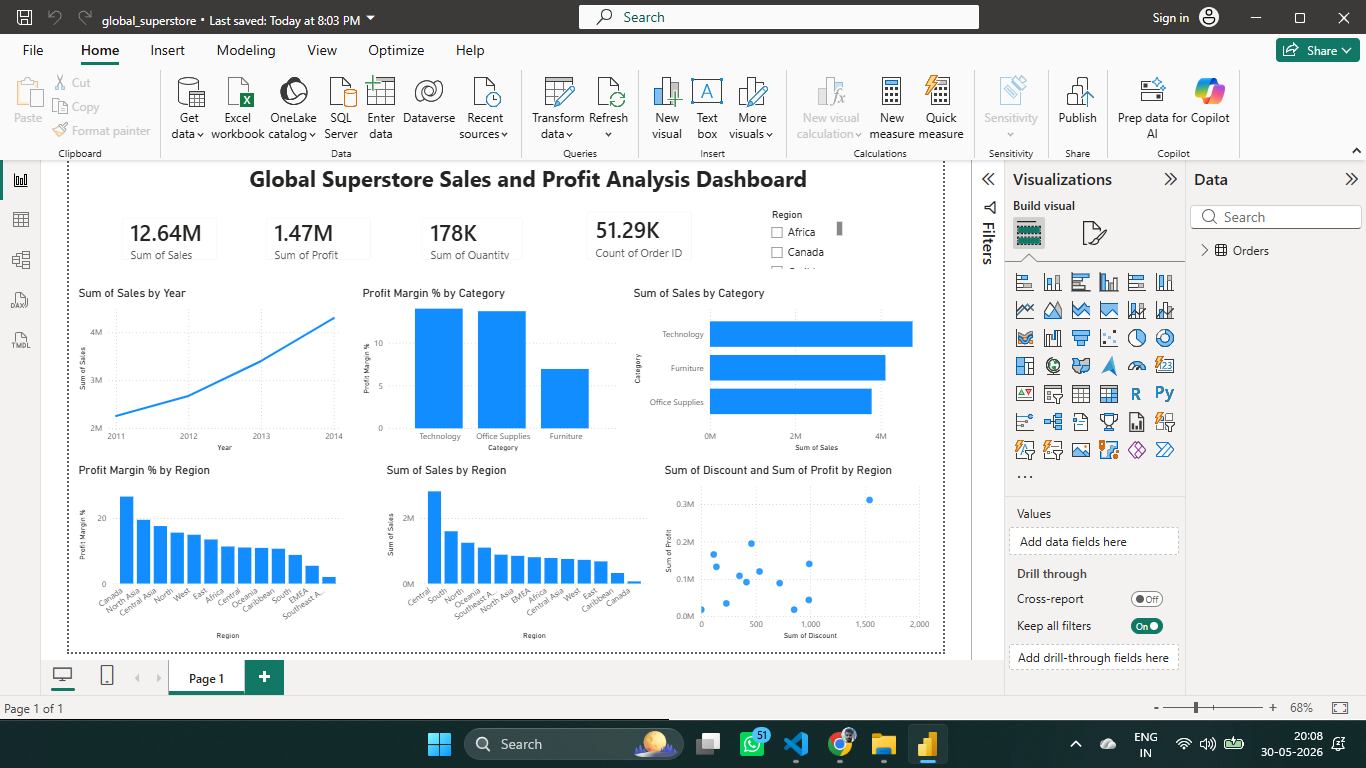

Layout of this report page (visuals, bound fields, positions):
{"tool":"powerbi","page":{"name":"Page 1","canvas":[1280,720],"ordinal":0},"visuals":[{"type":"cardVisual","fields":{"Data":["Sum(Orders.Sales)"]},"box":[60,67.3,174.1,96.6],"z":0},{"type":"cardVisual","fields":{"Data":["CountNonNull(Orders.Order ID)"]},"box":[740.5,58.5,188.8,105.4],"z":1000},{"type":"cardVisual","fields":{"Data":["Sum(Orders.Profit)"]},"box":[270.7,67.3,188.8,96.6],"z":2000},{"type":"cardVisual","fields":{"Data":["Sum(Orders.Quantity)"]},"box":[499,67.3,182.9,96.6],"z":3000},{"type":"lineChart","fields":{"Category":["Orders.Order Date.Variation.Date Hierarchy.Year","Orders.Order Date.Variation.Date Hierarchy.Quarter","Orders.Order Date.Variation.Date Hierarchy.Month","Orders.Order Date.Variation.Date Hierarchy.Day"],"Y":["Sum(Orders.Sales)"]},"box":[8.8,184.4,396.6,247.3],"z":4000},{"type":"clusteredBarChart","fields":{"Category":["Orders.Category"],"Y":["Sum(Orders.Sales)"]},"box":[821,184.4,443.4,247.3],"z":5000},{"type":"clusteredColumnChart","fields":{"Category":["Orders.Region"],"Y":["Sum(Orders.Sales)"]},"box":[459.5,443.4,392.2,263.4],"z":6000},{"type":"clusteredColumnChart","fields":{"Y":["Orders.Profit Margin %"],"Category":["Orders.Region"]},"box":[8.8,443.4,396.6,263.4],"z":7000},{"type":"clusteredColumnChart","fields":{"Y":["Orders.Profit Margin %"],"Category":["Orders.Category"]},"box":[424.4,184.4,382,247.3],"z":8000},{"type":"scatterChart","fields":{"Y":["Sum(Orders.Profit)"],"X":["Sum(Orders.Discount)"],"Category":["Orders.Region"]},"box":[866.3,443.4,398,263.4],"z":9000},{"type":"slicer","fields":{"Values":["Orders.Region"]},"box":[1015.6,67.3,121.5,96.6],"z":9001},{"type":"textbox","box":[259,0,844.4,58.5],"z":9002}]}

Visuals, with their boxes on the page's 1280x720 design canvas (x1, y1, x2, y2). These are canvas units, not pixel positions in the 1366x768 screenshot, which may show the page scaled, cropped or inside an application window:
cardVisual - Sum(Orders.Sales): [left=60, top=67, right=234, bottom=164]
cardVisual - CountNonNull(Orders.Order ID): [left=740, top=58, right=929, bottom=164]
cardVisual - Sum(Orders.Profit): [left=271, top=67, right=460, bottom=164]
cardVisual - Sum(Orders.Quantity): [left=499, top=67, right=682, bottom=164]
lineChart - Orders.Order Date.Variation.Date Hierarchy.Year x Orders.Order Date.Variation.Date Hierarchy.Quarter: [left=9, top=184, right=405, bottom=432]
clusteredBarChart - Orders.Category x Sum(Orders.Sales): [left=821, top=184, right=1264, bottom=432]
clusteredColumnChart - Orders.Region x Sum(Orders.Sales): [left=460, top=443, right=852, bottom=707]
clusteredColumnChart - Orders.Profit Margin % x Orders.Region: [left=9, top=443, right=405, bottom=707]
clusteredColumnChart - Orders.Profit Margin % x Orders.Category: [left=424, top=184, right=806, bottom=432]
scatterChart - Sum(Orders.Profit) x Sum(Orders.Discount): [left=866, top=443, right=1264, bottom=707]
slicer - Orders.Region: [left=1016, top=67, right=1137, bottom=164]
textbox: [left=259, top=0, right=1103, bottom=58]
